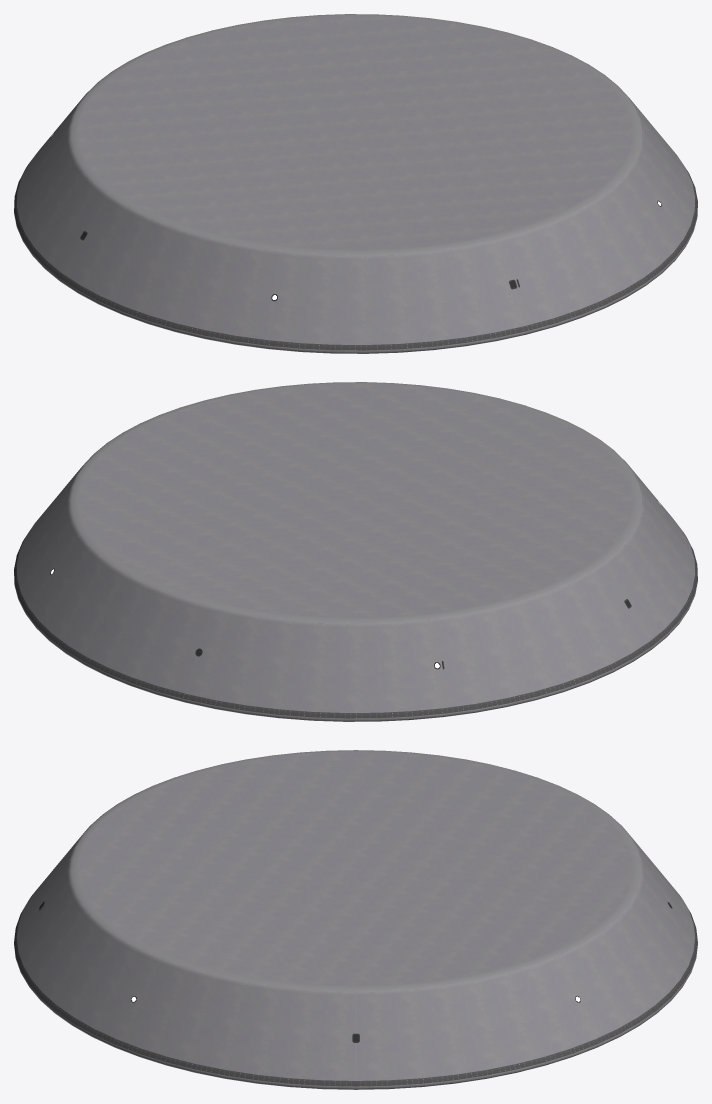
The model's file is SM_Floor01.fbx.
The picture shows the model from 3 angles, top to bottom: view 1: azimuth 30°, elevation 25°; view 2: azimuth 150°, elevation 25°; view 3: azimuth 270°, elevation 25°; orthographic projection.
Parts seen in each view (by area): view 1: SM_Floor01_LOD0; view 2: SM_Floor01_LOD0; view 3: SM_Floor01_LOD0.
Part boxes in pixels (box(x1,y1,x2,y2)): SM_Floor01_LOD0: box(14, 14, 697, 353); SM_Floor01_LOD0: box(14, 382, 697, 721); SM_Floor01_LOD0: box(14, 750, 697, 1089).
Size of the model in its own units: 8000 by 8000 by 1000.
2 materials, 2 textured.
